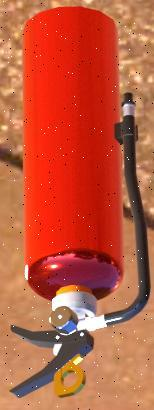Fire Extinguisher: (6, 13, 154, 403)
